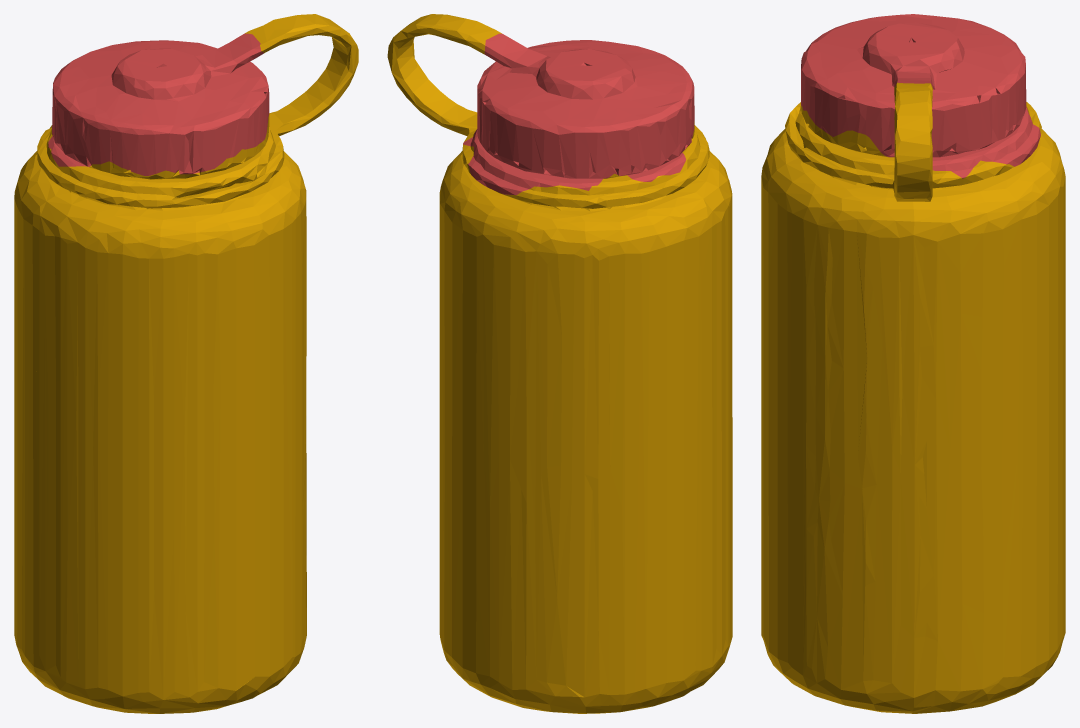
File: fractured_55_2pcs.glb
The picture shows the model from 3 angles, left to right: view 1: azimuth 30°, elevation 25°; view 2: azimuth 150°, elevation 25°; view 3: azimuth 270°, elevation 25°; orthographic projection. The views are drawn at different scales.
Parts seen in each view (by area): view 1: piece_0.obj, piece_1.obj; view 2: piece_0.obj, piece_1.obj; view 3: piece_0.obj, piece_1.obj.
Boxes of the visible parts, x1,y1,x2,y2 form: piece_0.obj: (14, 14, 358, 713); piece_1.obj: (48, 33, 269, 175); piece_0.obj: (387, 14, 732, 713); piece_1.obj: (463, 33, 694, 195); piece_0.obj: (761, 82, 1065, 713); piece_1.obj: (801, 14, 1040, 178).
Size of the model in its own units: 0.5451 by 1 by 0.4357.
